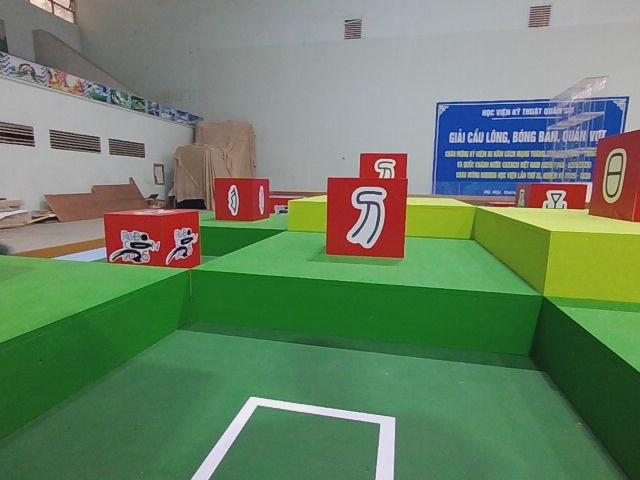R1: (103, 206, 201, 271)
R2 Fake: (324, 176, 407, 259), (588, 128, 640, 222)
R2 Real: (215, 177, 270, 222)
